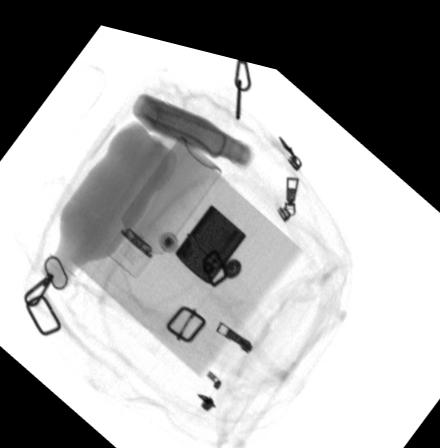Lighter: (173, 192, 245, 271)
Sprayer: (104, 126, 222, 271)
